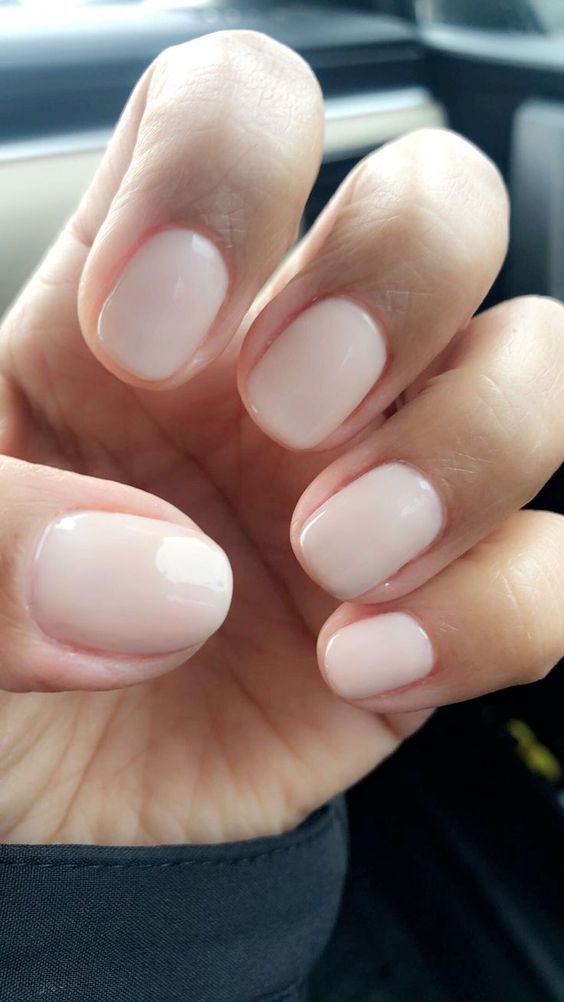nails: (21, 495, 239, 667), (87, 207, 241, 392), (235, 288, 395, 457), (290, 451, 452, 610), (315, 609, 449, 702)
